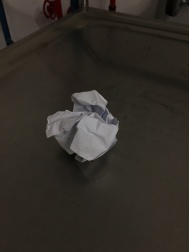paper_white: (31, 80, 136, 176)
